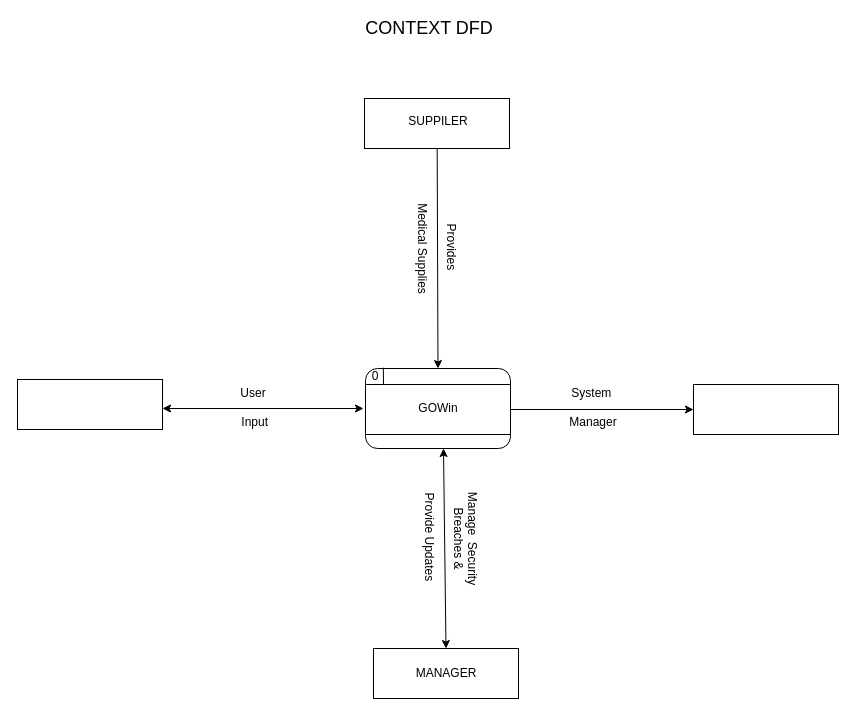
This 856x716 diagram has some shape labels left out. Here are the shapes that lost their labels. From the top down, the centre of each, then its label:
At point 89,404: "VISITOR".
At point 765,409: "ADMIN".
